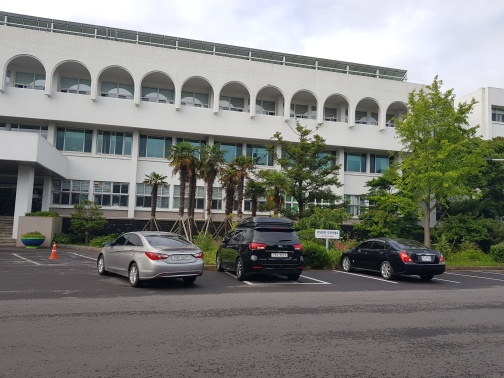Main Building of University: (3, 10, 410, 227), (48, 56, 323, 123)
